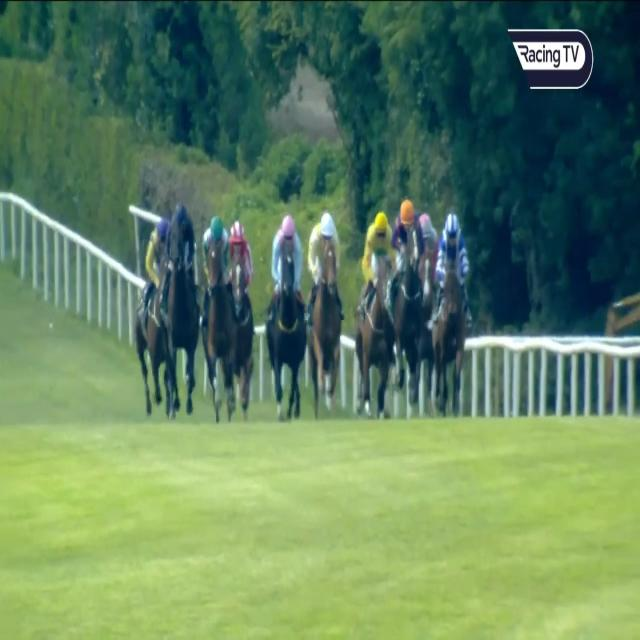horses-racing: (392, 188, 427, 418), (269, 211, 306, 427), (434, 212, 471, 416), (308, 209, 342, 415), (163, 199, 194, 424), (196, 210, 232, 402), (360, 208, 392, 420), (136, 212, 168, 411), (224, 212, 256, 410), (419, 205, 436, 394)
